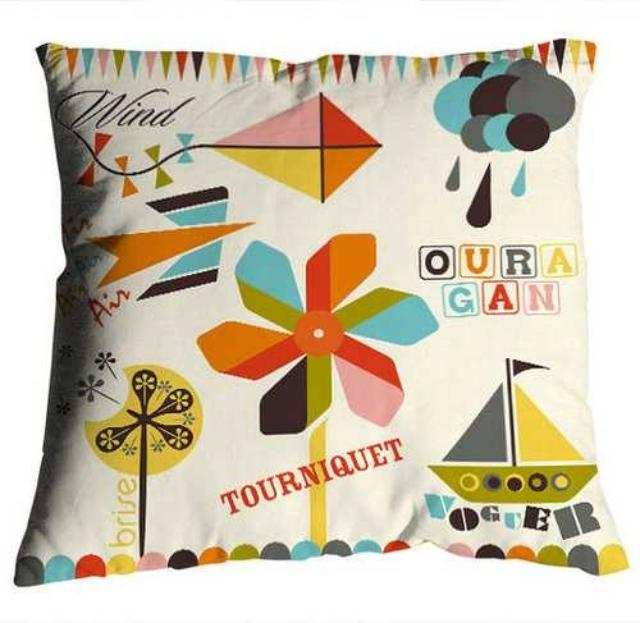pillow: (14, 37, 628, 587)
